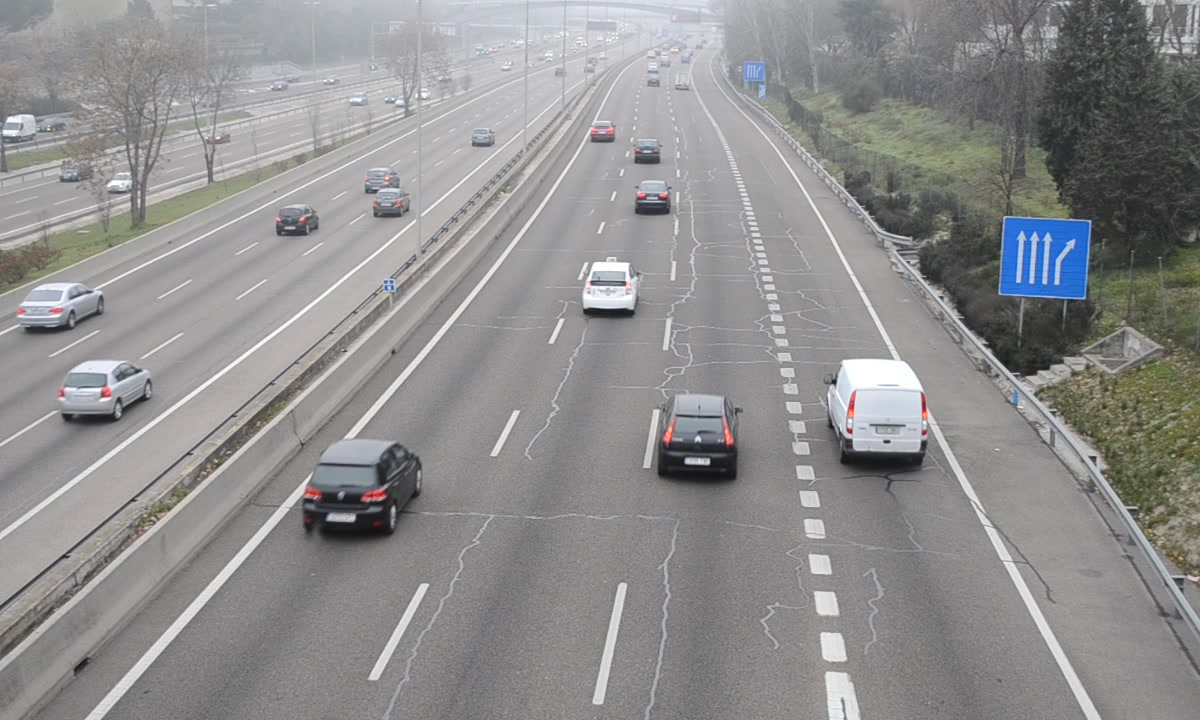car: (304, 439, 421, 533), (659, 393, 735, 479), (585, 261, 637, 312), (635, 178, 671, 216), (633, 135, 662, 166), (588, 120, 613, 145)
van: (831, 359, 928, 462)
